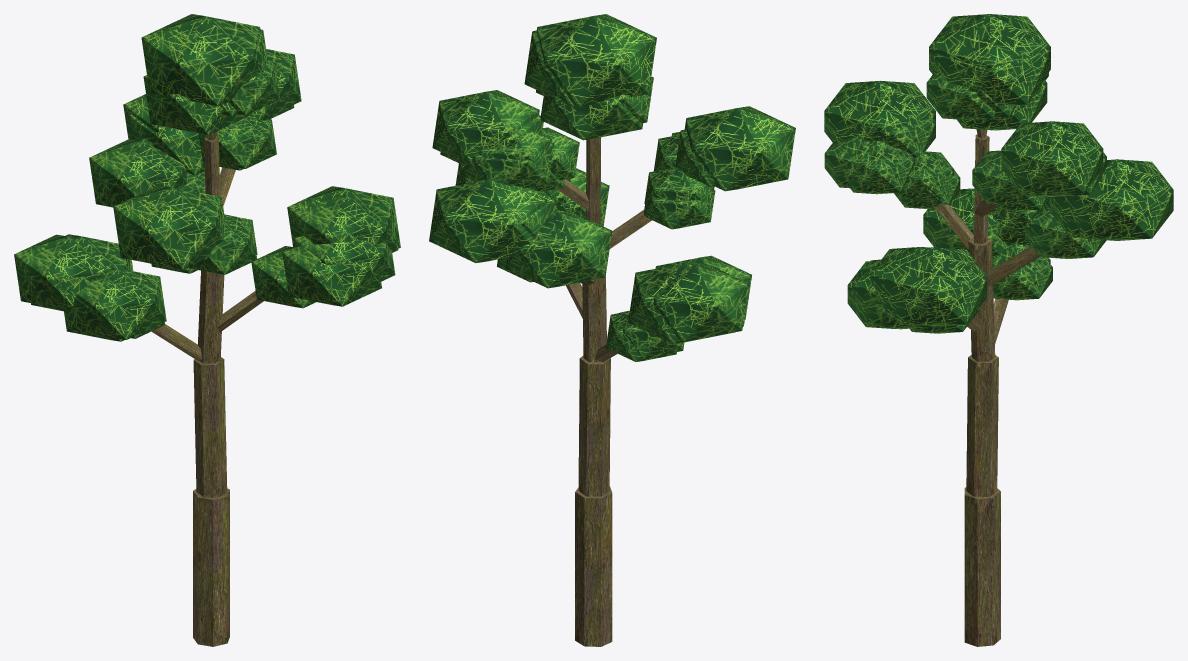
Rendered from ocote.obj.
The picture shows the model from 3 angles, left to right: view 1: azimuth 30°, elevation 25°; view 2: azimuth 150°, elevation 25°; view 3: azimuth 270°, elevation 25°; orthographic projection.
Visible parts, largest first — view 1: Pino_Ocote_Ajusco; view 2: Pino_Ocote_Ajusco; view 3: Pino_Ocote_Ajusco.
Part boxes in pixels (box(x1,y1,x2,y2)): Pino_Ocote_Ajusco: box(14, 14, 400, 646); Pino_Ocote_Ajusco: box(429, 14, 795, 646); Pino_Ocote_Ajusco: box(824, 14, 1173, 646).
Bounding box in the file's own units: 4.64 × 8.44 × 4.29.
2 materials, 2 textured.
